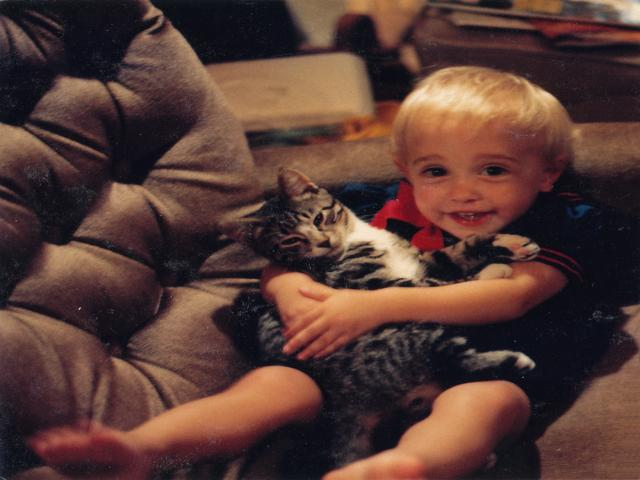Cat: (221, 165, 539, 480)
